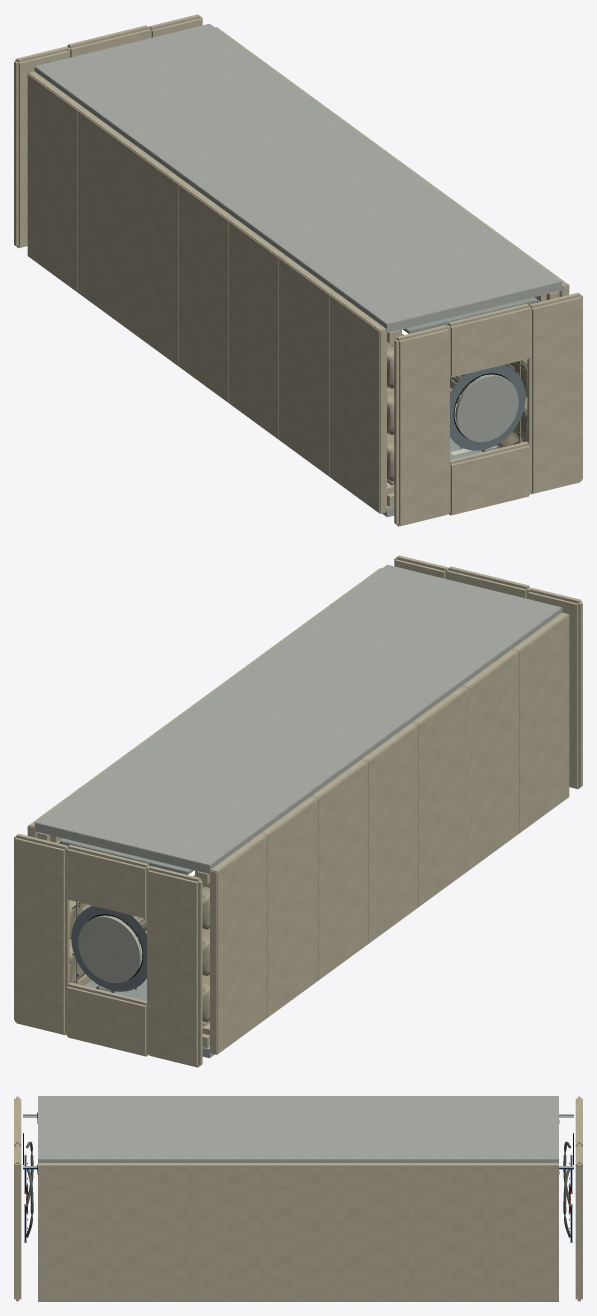
File: zarya.glb
3 renders of one model, top to bottom at view 1: azimuth 30°, elevation 25°; view 2: azimuth 150°, elevation 25°; view 3: azimuth 270°, elevation 25°, orthographic. The views are drawn at different scales.
Parts seen in each view (by area): view 1: zarya_detailed; view 2: zarya_detailed; view 3: zarya_detailed.
Part boxes in pixels (x1=…): zarya_detailed: x1=14, y1=14, x2=582, y2=526; zarya_detailed: x1=14, y1=555, x2=582, y2=1067; zarya_detailed: x1=14, y1=1096, x2=582, y2=1301.
Size of the model in its own units: 3.09 by 3 by 10.84.
Materials: 18 (15 with a texture image).
